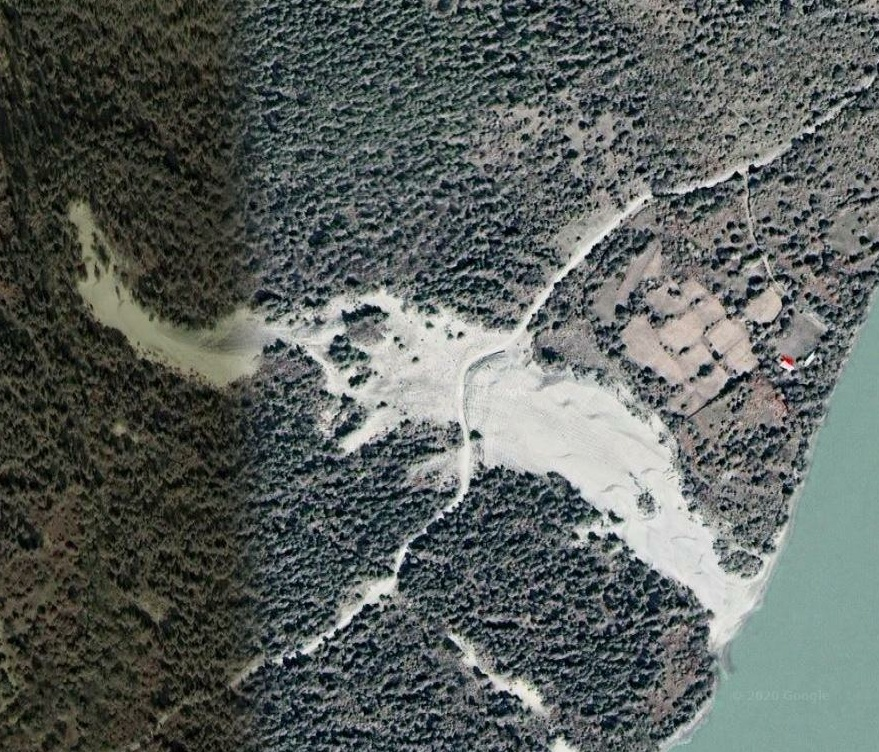slope: (466, 336, 777, 656), (62, 198, 296, 384), (310, 286, 511, 449)
